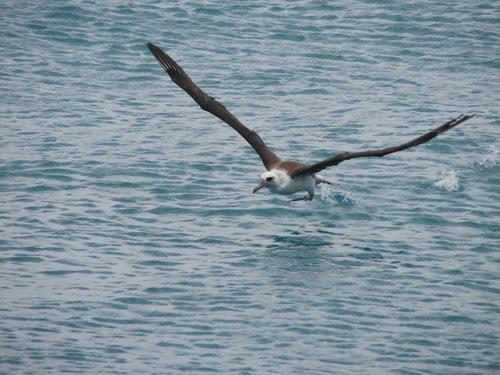002.Laysan_Albatross: (144, 38, 473, 204)
